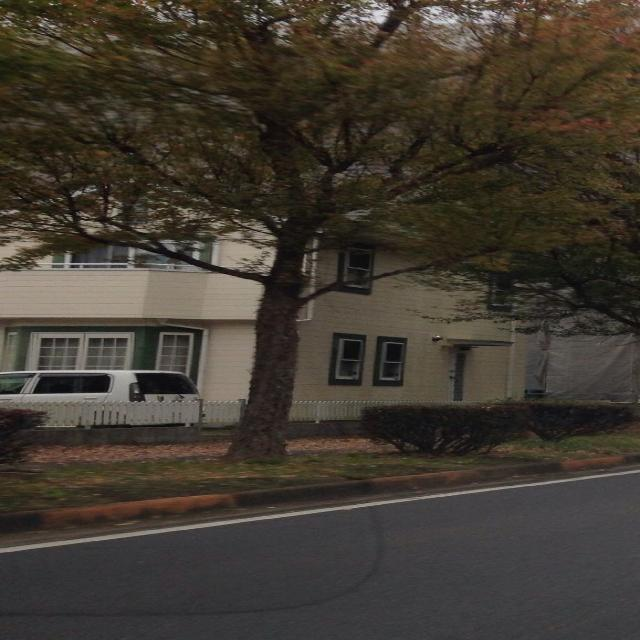maple: (0, 0, 640, 462)
